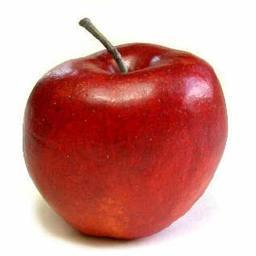apple: (22, 45, 229, 238)
